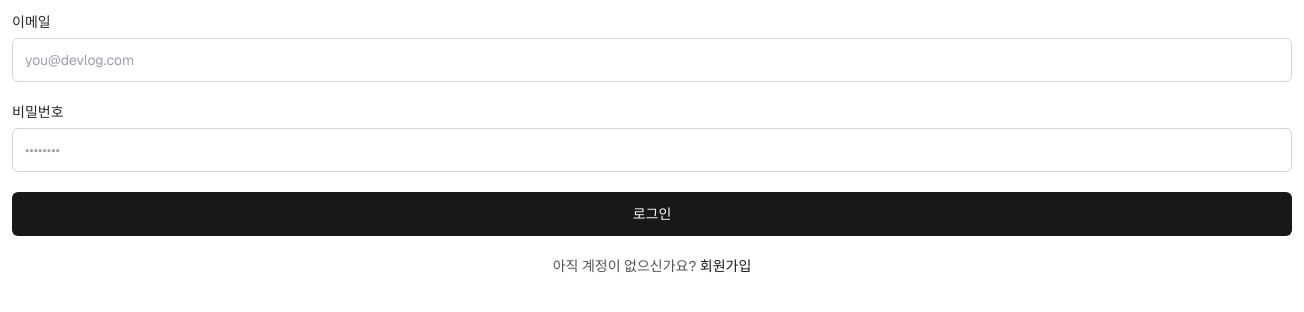
Test: <LoginForm /> › action 이 field error 를 반환하면 해당 input 에 에러가 표시된다
In the field labelled "이메일": (652, 60) [12,38,1292,82], type "not-an-email"
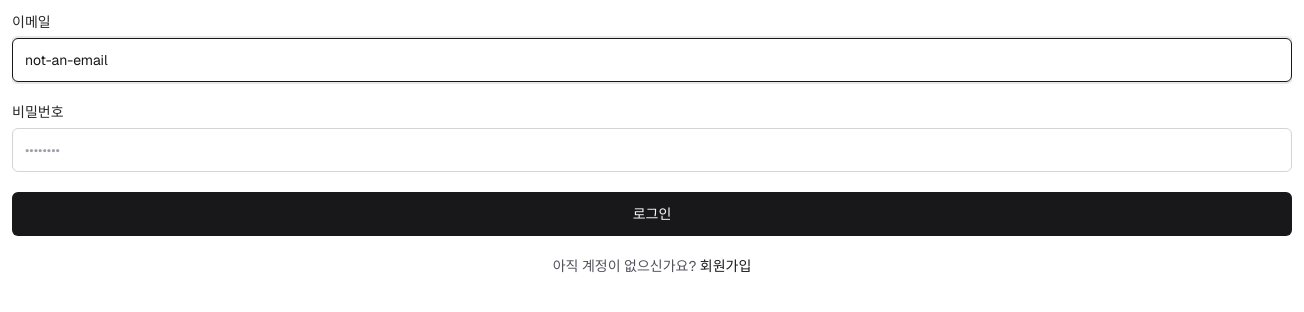
In the password field labelled "비밀번호": (652, 150) [12,128,1292,172], type "password1234"
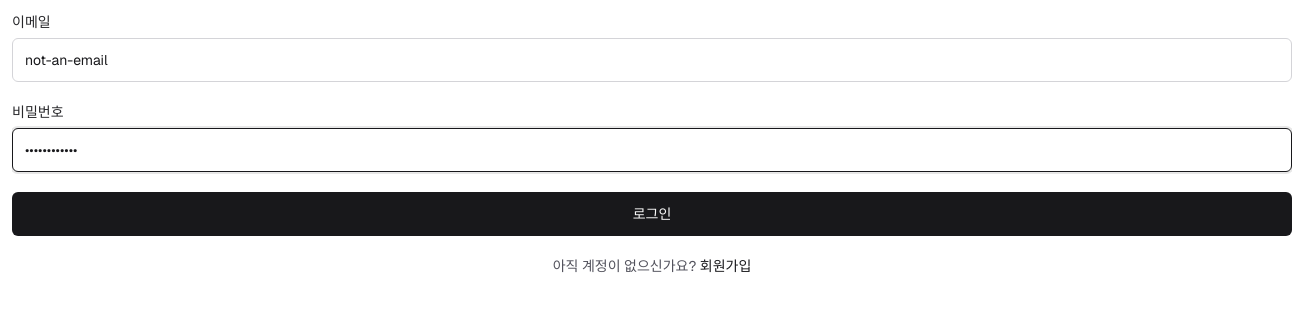
Click the button "로그인": (652, 214) [12,192,1292,236]
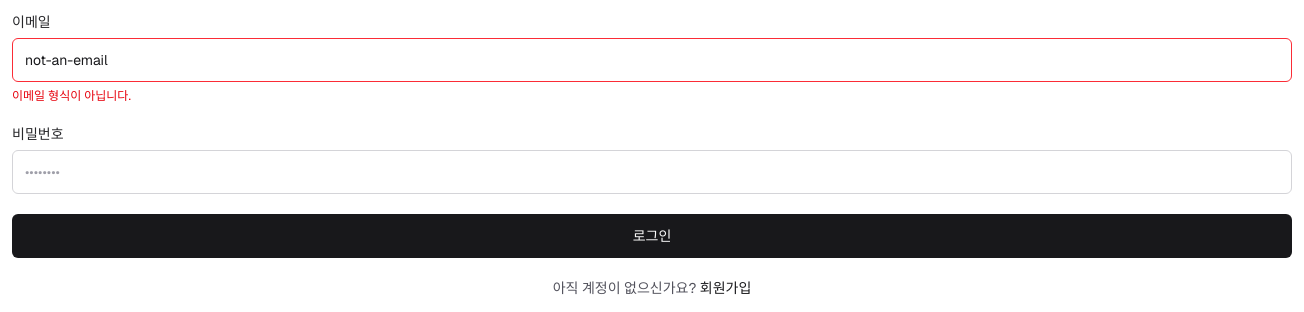
Now the text "이메일 형식이 아닙니다." is shown, box [12,88,131,104]
